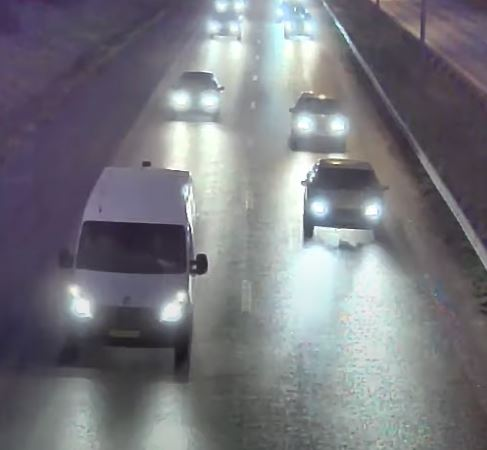Bus: (63, 161, 201, 364), (302, 156, 387, 238), (288, 90, 350, 150), (167, 69, 222, 121)
